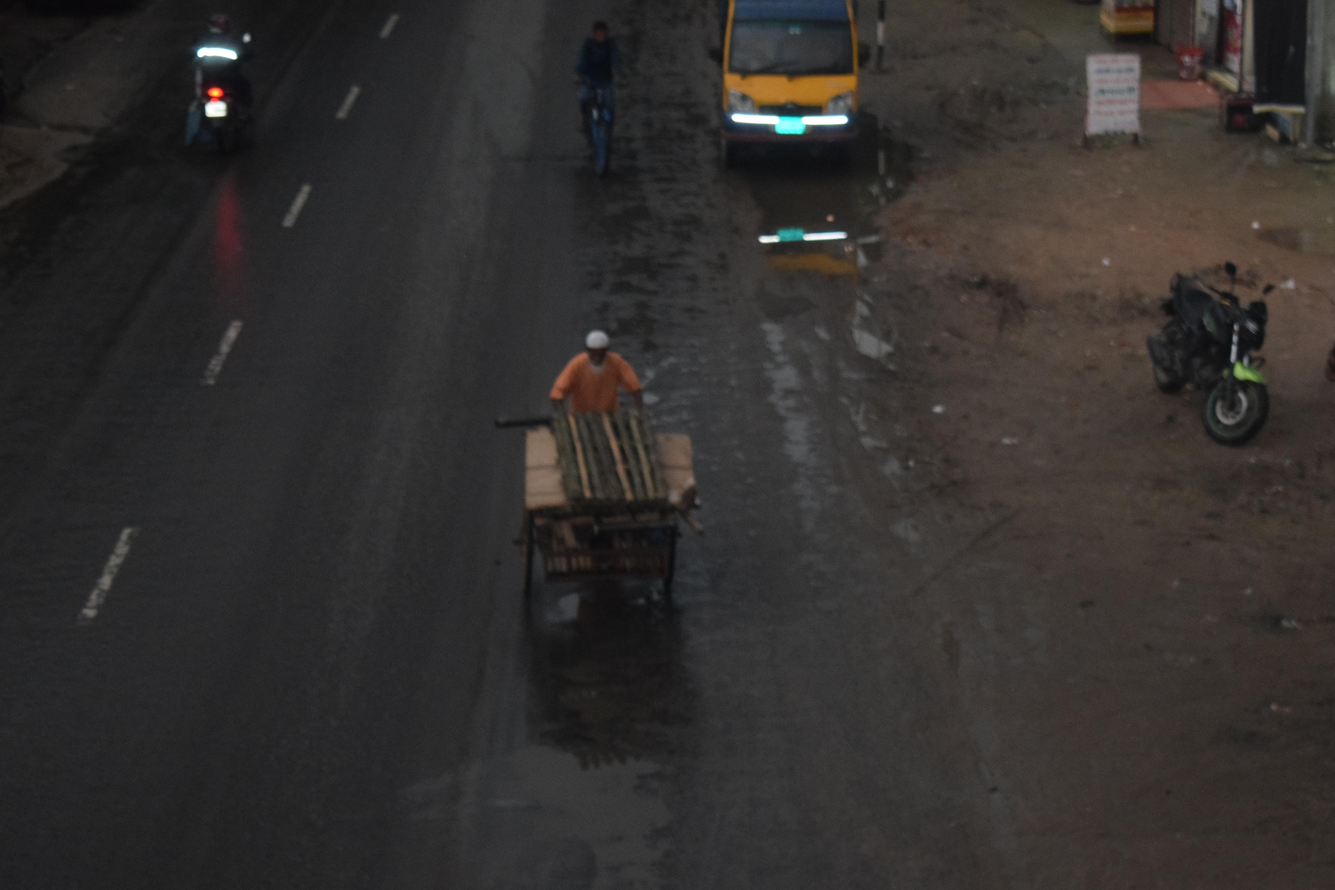Bike: (1110, 231, 1297, 478), (150, 0, 289, 179)
Car: (434, 300, 743, 648)
Truck: (661, 0, 887, 192)
